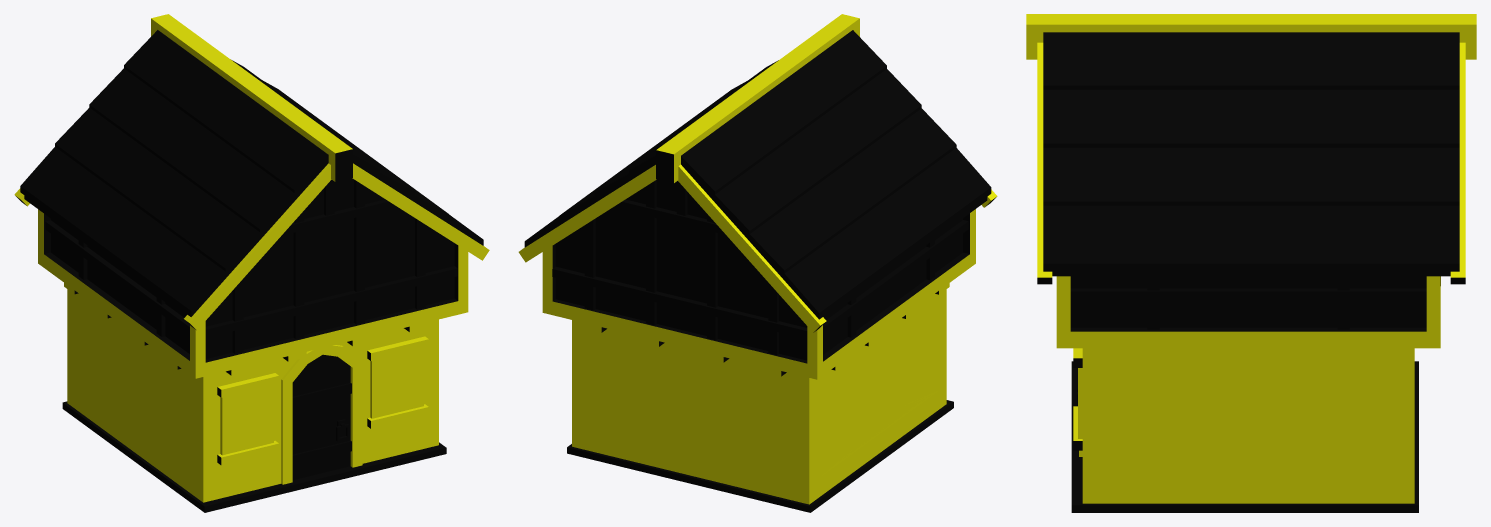
Rendered from House_Blank.gltf.
The picture shows the model from 3 angles, left to right: view 1: azimuth 30°, elevation 25°; view 2: azimuth 150°, elevation 25°; view 3: azimuth 270°, elevation 25°; orthographic projection. The views are drawn at different scales.
Visible parts, largest first — view 1: SF_Bld_House_Blank_01; view 2: SF_Bld_House_Blank_01; view 3: SF_Bld_House_Blank_01.
Boxes of the visible parts, bbox=[...] form: SF_Bld_House_Blank_01: bbox=[14, 14, 489, 512]; SF_Bld_House_Blank_01: bbox=[518, 14, 997, 512]; SF_Bld_House_Blank_01: bbox=[1026, 14, 1476, 512].
Size of the model in its own units: 0.0995 by 0.1097 by 0.1061.
1 material, 1 textured.
